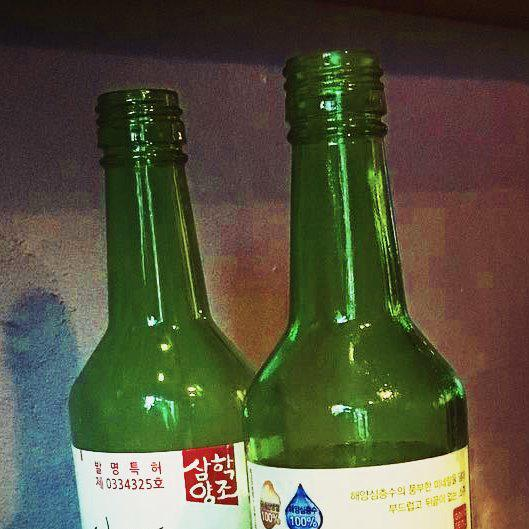soju: (65, 43, 476, 529)
